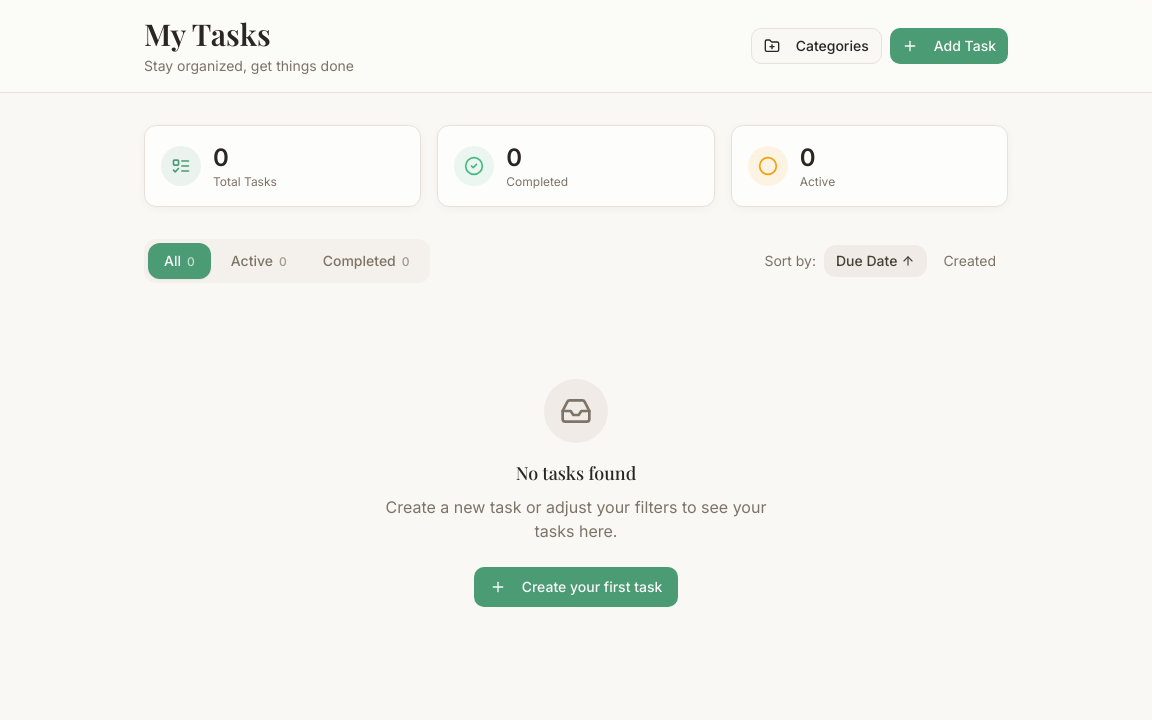
Test: Index › should open todo form when Add Task clicked
expect the heading "My Tasks" is shown: met, box [144, 14, 271, 54]
Click the button "Add Task" at (949, 46), box [890, 28, 1008, 64]
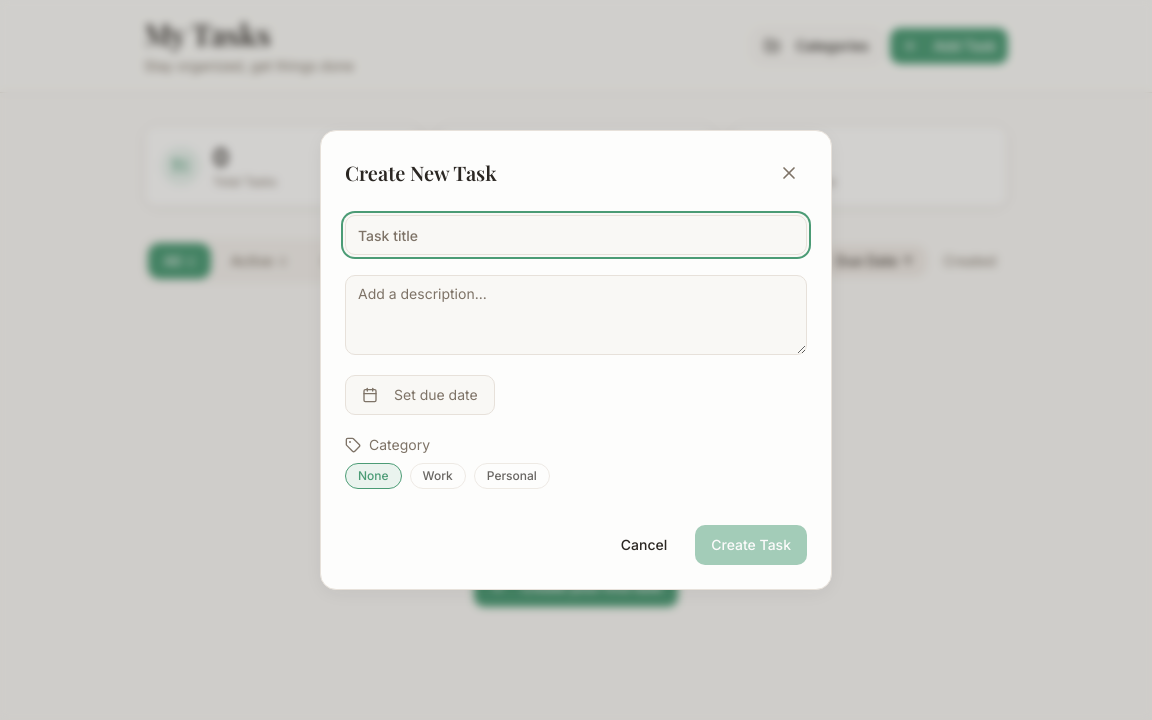
expect the heading "Create New Task" is shown: met, box [345, 159, 497, 187]
